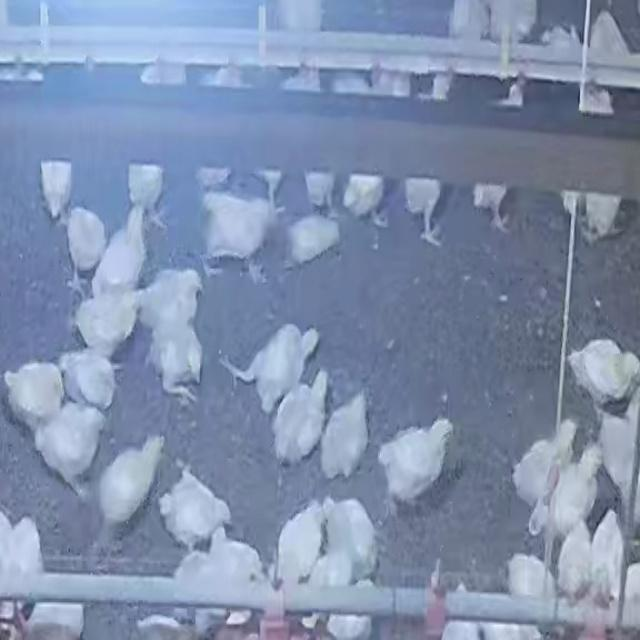chicken: (221, 324, 320, 414), (32, 400, 108, 498), (96, 432, 166, 532), (198, 189, 280, 269), (381, 416, 453, 503), (157, 466, 232, 548), (270, 369, 330, 467), (511, 415, 577, 502), (91, 204, 150, 300), (210, 528, 266, 625), (565, 338, 640, 409), (72, 288, 141, 363), (546, 448, 601, 542), (323, 494, 378, 580), (599, 395, 640, 510), (3, 360, 66, 430), (325, 390, 372, 480), (148, 326, 205, 398), (59, 348, 121, 414), (0, 507, 46, 591), (138, 269, 203, 327), (64, 205, 108, 288), (588, 508, 626, 604), (554, 522, 598, 604), (278, 503, 323, 582), (177, 552, 219, 630), (284, 214, 340, 270), (402, 177, 446, 246), (570, 192, 628, 244), (506, 552, 556, 604), (39, 160, 74, 222), (342, 174, 385, 223), (126, 163, 166, 215)
